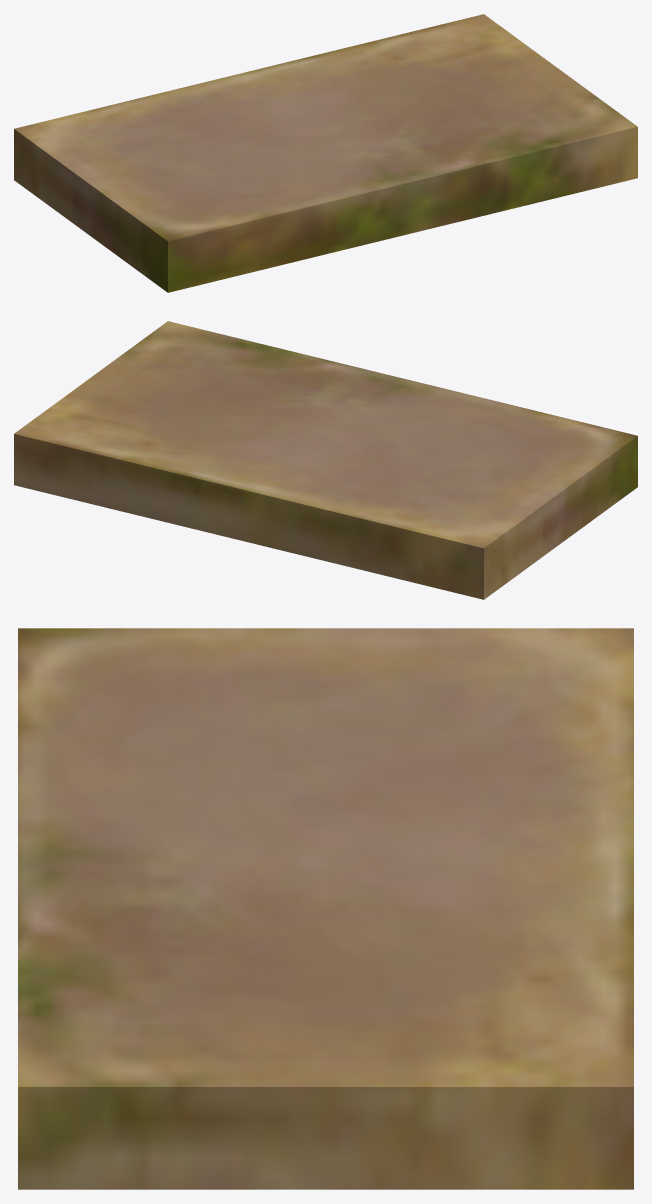
The model's file is Stage_01_01_DiMianShiKuai05.FBX.
3 views of the same model, one above another, from view 1: azimuth 30°, elevation 25°; view 2: azimuth 150°, elevation 25°; view 3: azimuth 270°, elevation 25° (orthographic). The views are drawn at different scales.
Parts seen in each view (by area): view 1: Stage_01_01_DiMianShiKuai05; view 2: Stage_01_01_DiMianShiKuai05; view 3: Stage_01_01_DiMianShiKuai05.
Part boxes in pixels (x1,y1,x2,y2): Stage_01_01_DiMianShiKuai05: [14, 14, 637, 292]; Stage_01_01_DiMianShiKuai05: [14, 321, 637, 599]; Stage_01_01_DiMianShiKuai05: [18, 628, 633, 1189].
Bounding box in the file's own units: 122 × 12.73 × 69.16.
